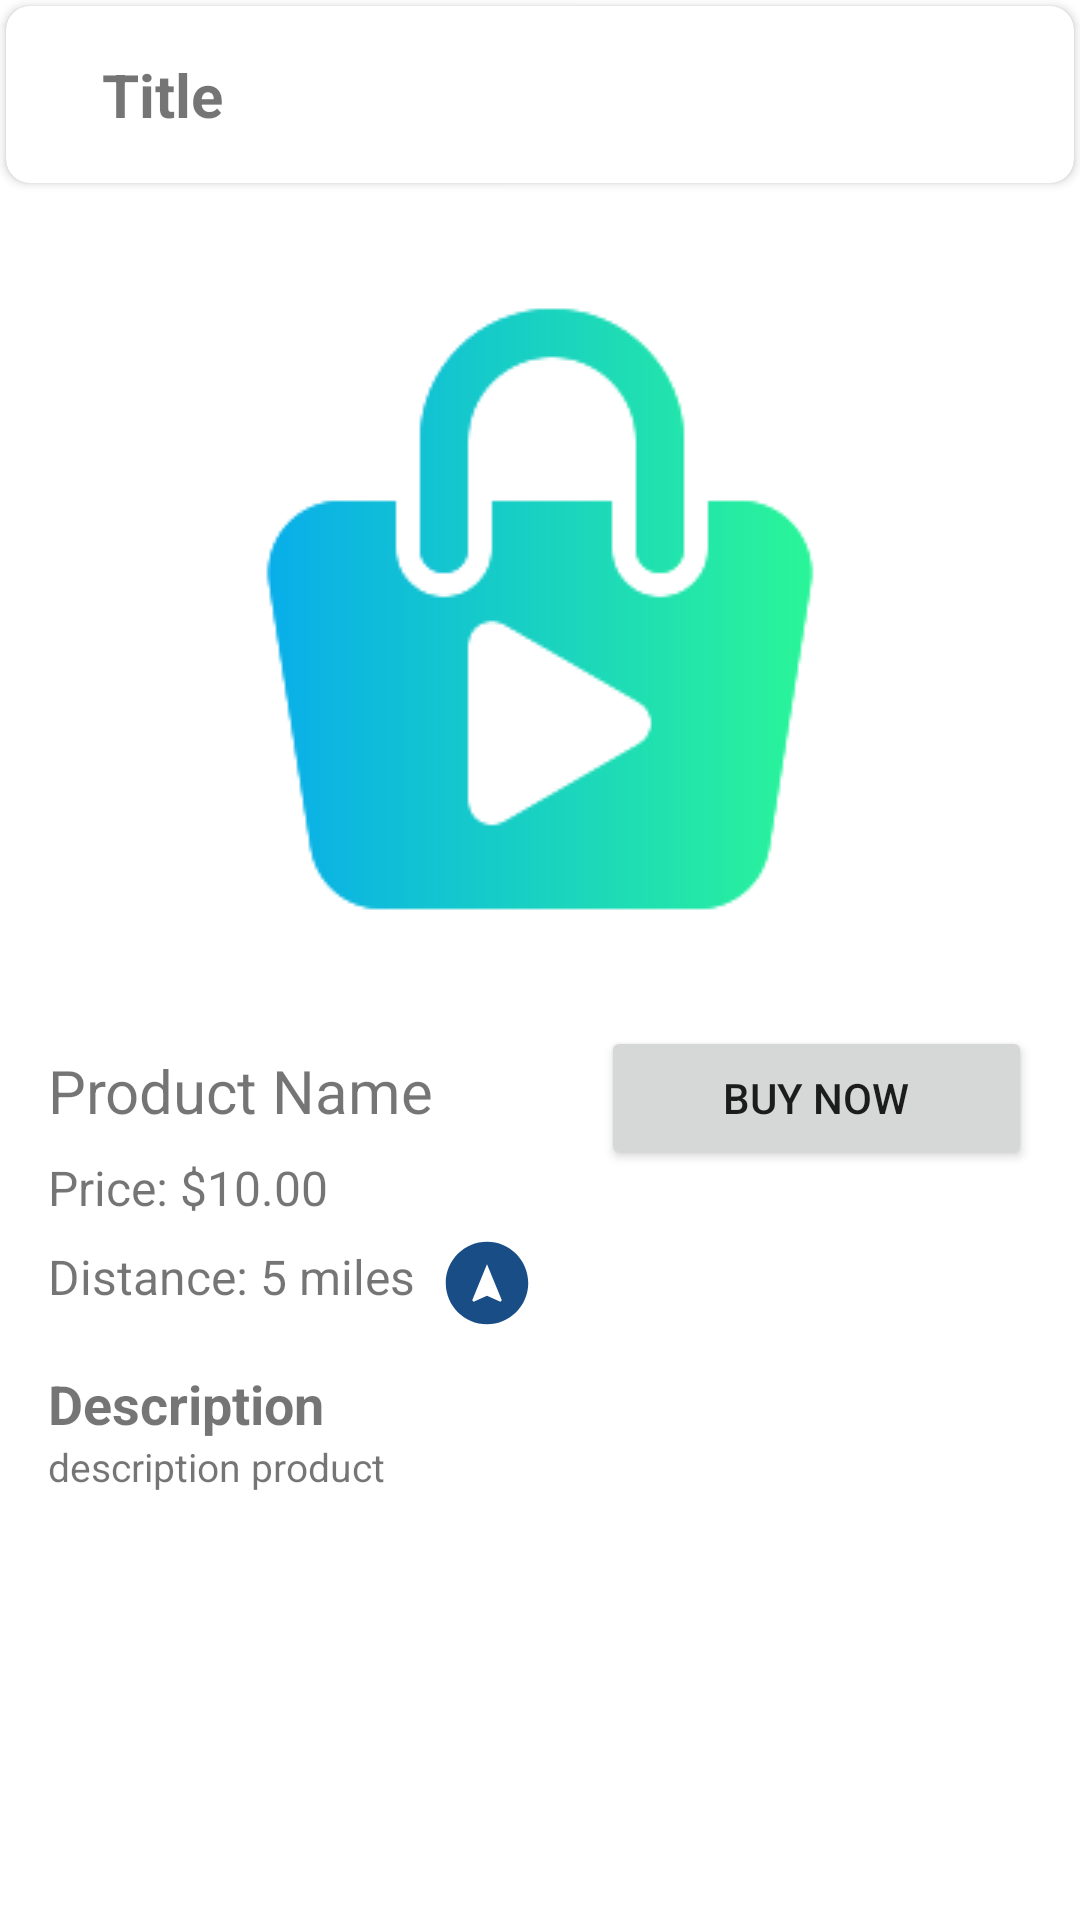

Screen size 1080px×1920px. Icon name, then its center in pixels as (x,y):
assistant navigation: (487,1283)
